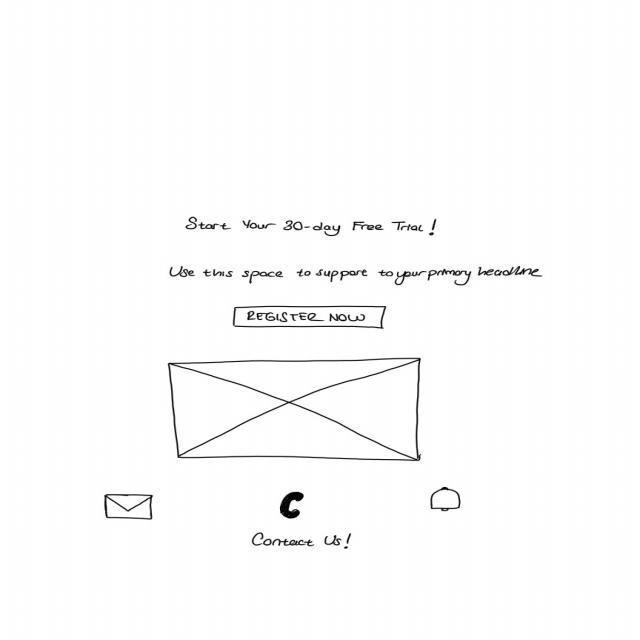button: (233, 305, 390, 330)
image: (169, 357, 425, 463)
label: (168, 266, 545, 288), (184, 217, 440, 238), (252, 532, 355, 553)
